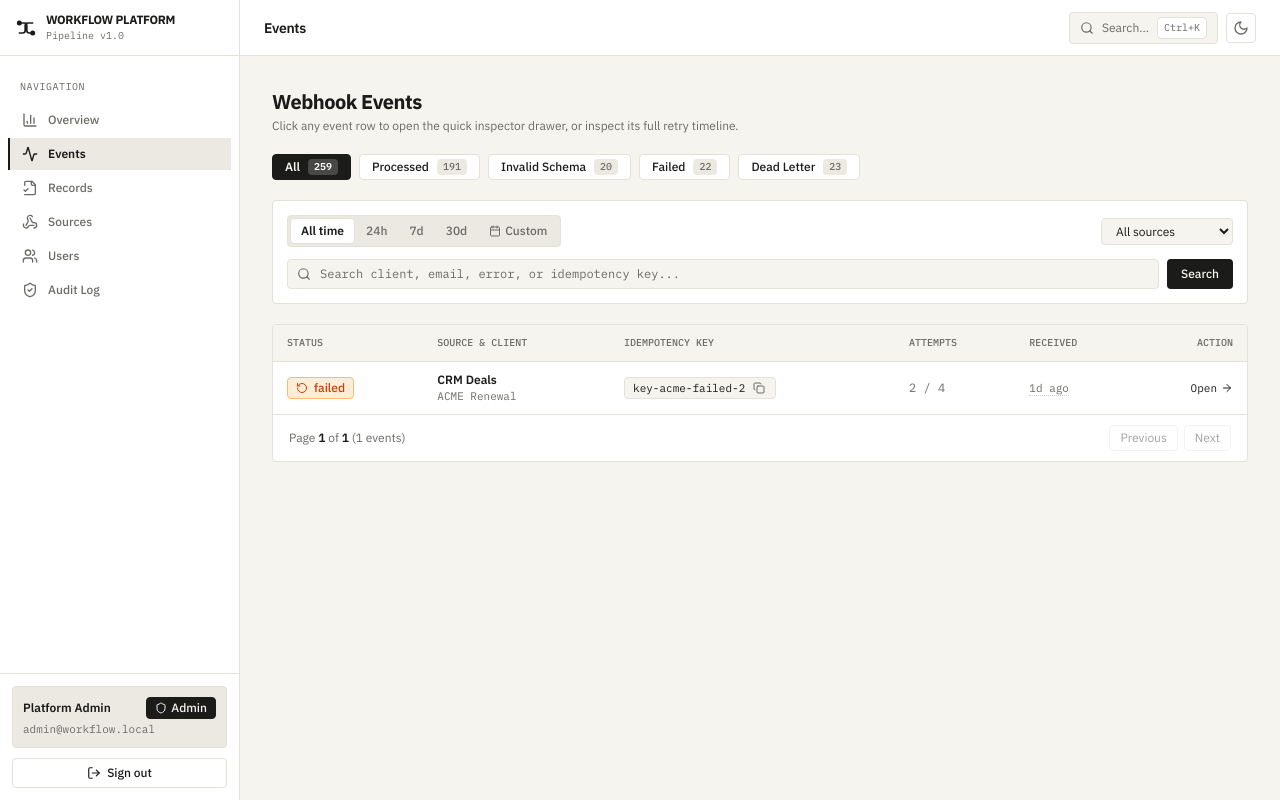
Workflow Platform Frontend › opens event quick inspector drawer on row click and allows quick replay
Later steps or results of the test are not shown.
Click the text "key-acme-failed-2".
click(689, 388)  # box [633,380,745,396]
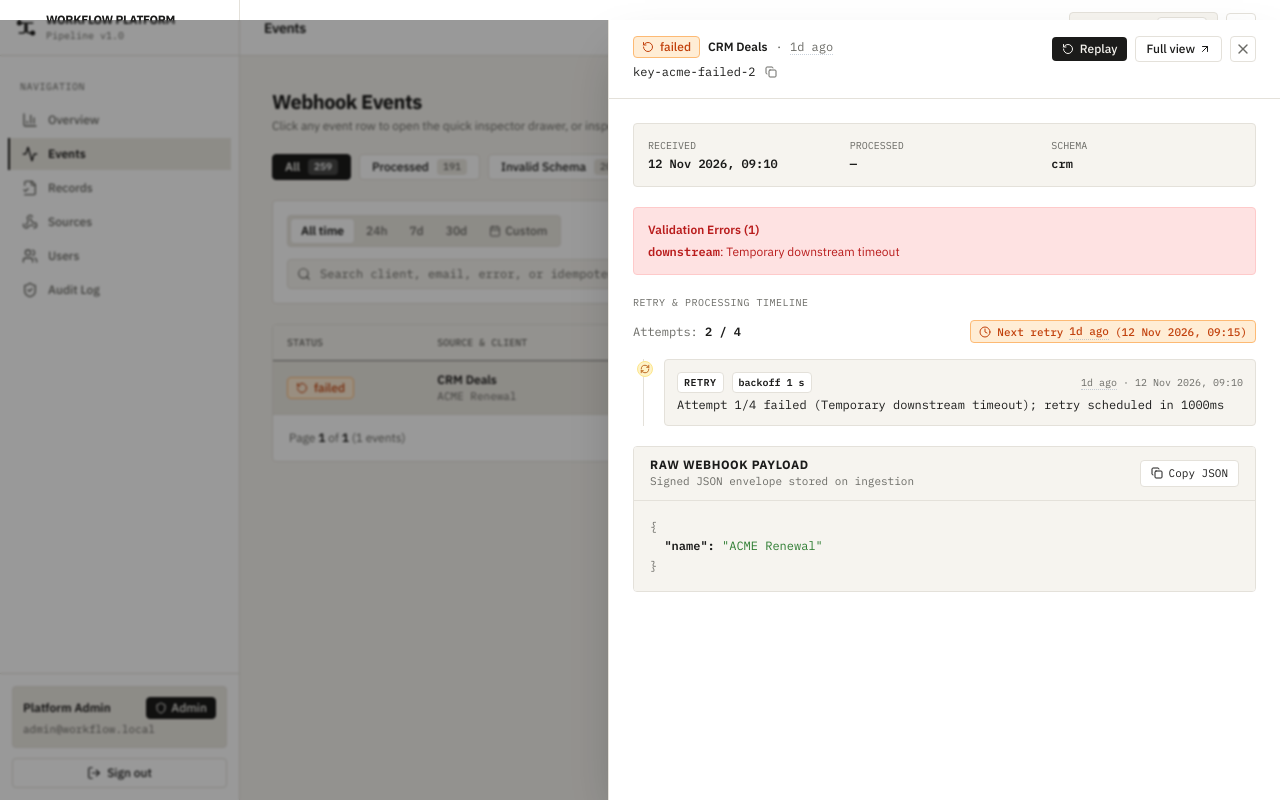
Check: the heading "Raw Webhook Payload" is shown, box [650,457,809,472]
Check: the button "Replay" is shown, box [1052,37,1127,61]
